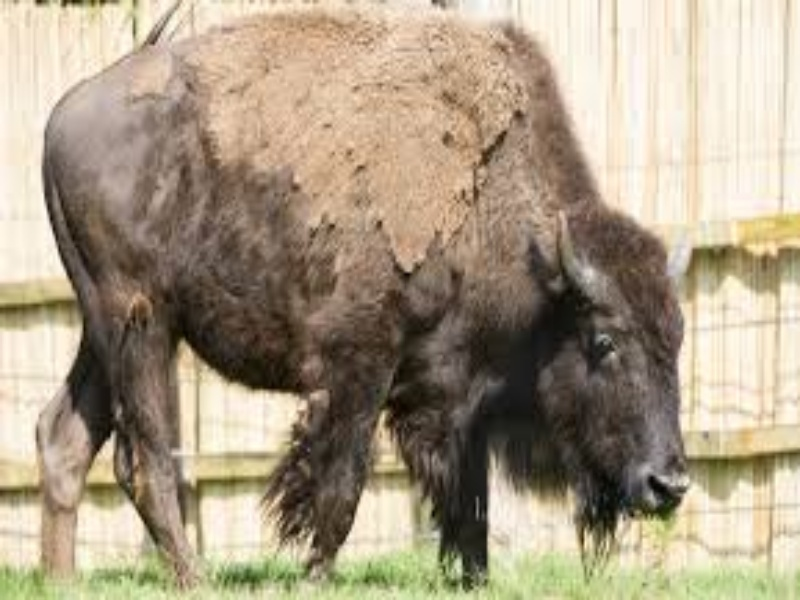buffalo: (25, 11, 704, 585)
